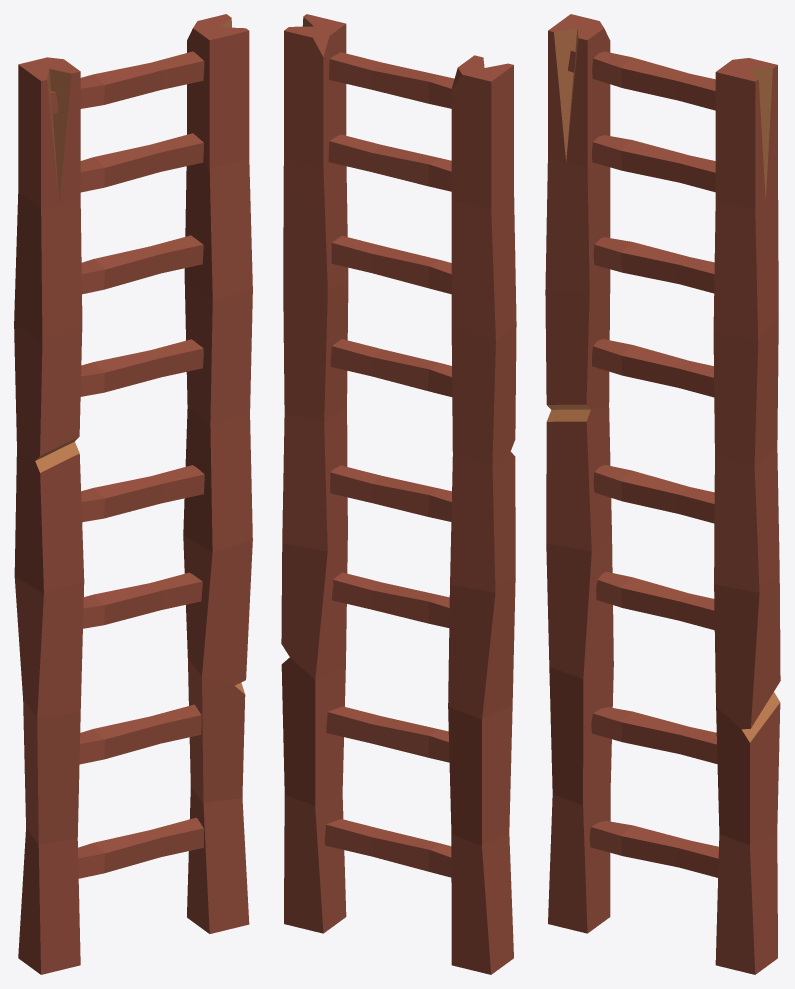
File: ladder.glb
3 views of the same model, side by side, from view 1: azimuth 30°, elevation 25°; view 2: azimuth 150°, elevation 25°; view 3: azimuth 330°, elevation 25° (orthographic).
Parts seen in each view (by area): view 1: ladder; view 2: ladder; view 3: ladder.
Boxes of the visible parts, x1,y1,x2,y2 form: ladder: [14, 14, 252, 974]; ladder: [281, 14, 516, 974]; ladder: [545, 14, 780, 974].
Size of the model in its own units: 0.7595 by 3 by 0.1764.
1 material, 1 textured.
